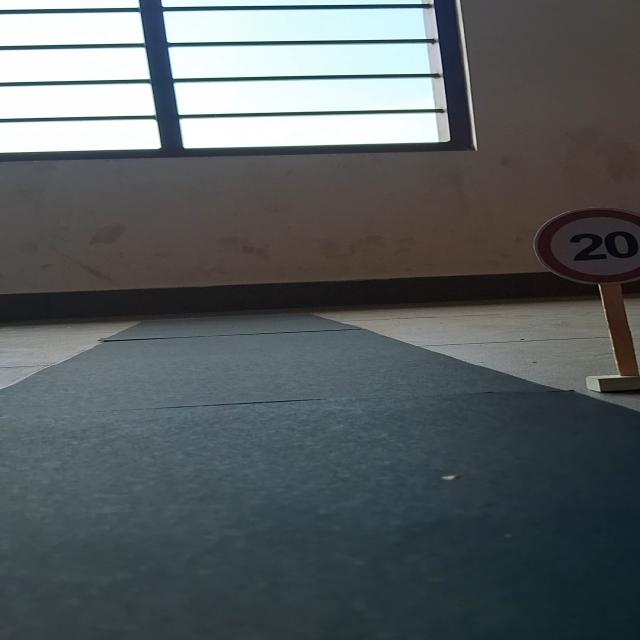Speed20: (526, 201, 640, 288)
